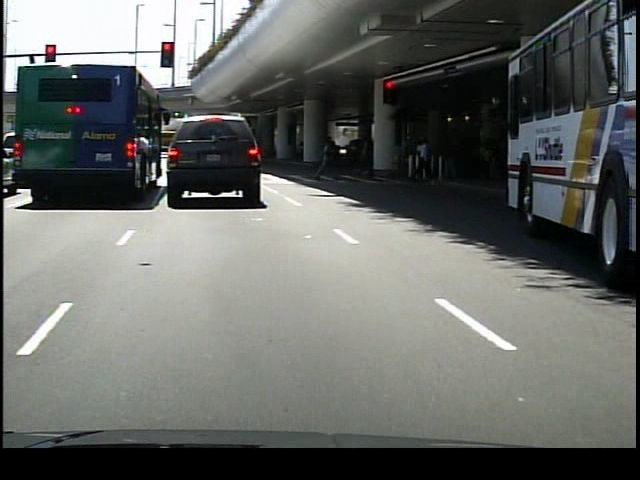person: (315, 132, 342, 183), (356, 130, 381, 185), (412, 135, 434, 188)
